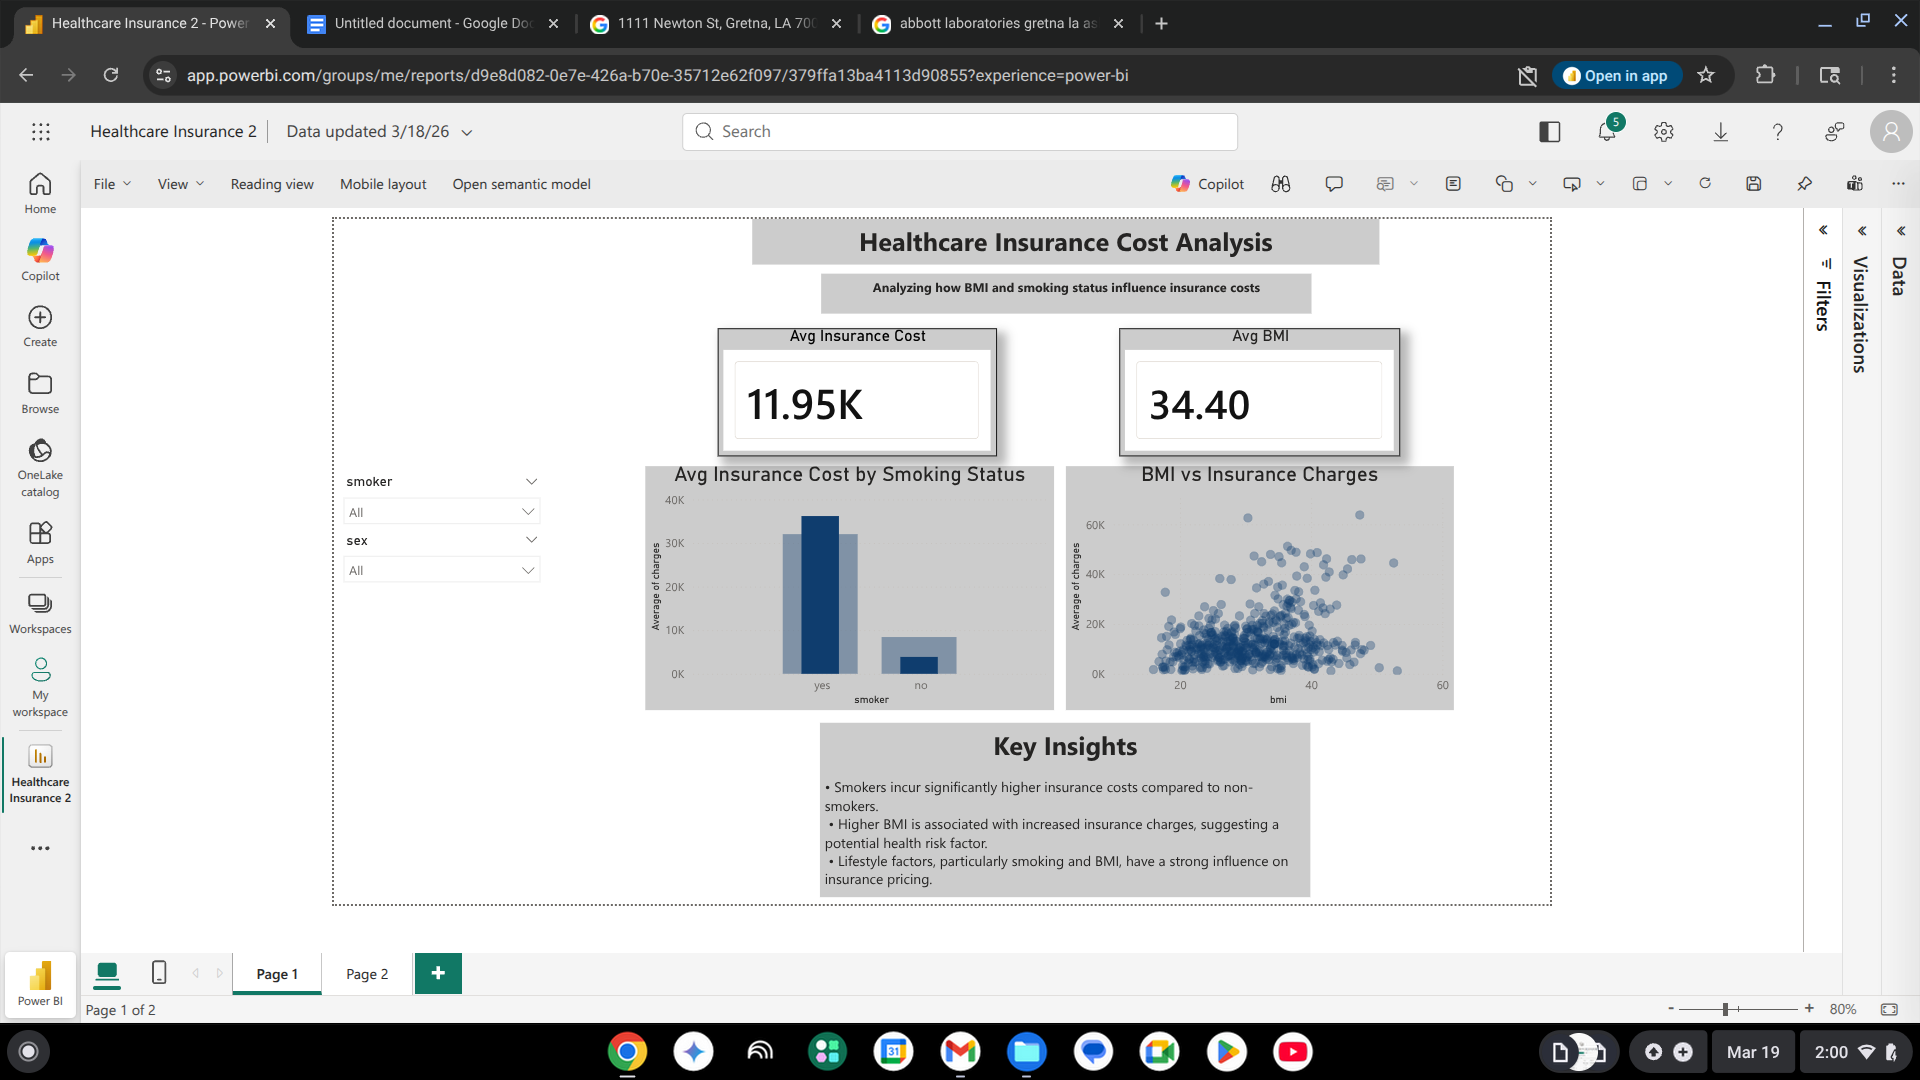

What the dashboard file says about the page in this screenshot:
{"tool":"powerbi","page":{"name":"Page 1","canvas":[1280,720],"ordinal":0},"visuals":[{"type":"clusteredColumnChart","title":"Avg Insurance Cost by Smoking Status","fields":{"Category":["insurance.smoker"],"Y":["Avg(insurance.charges)"]},"box":[326.9,259.9,430.4,256.4],"z":0},{"type":"scatterChart","title":"BMI vs Insurance Charges","fields":{"X":["insurance.bmi"],"Y":["Avg(insurance.charges)"]},"box":[770.2,259.9,408.1,256.4],"z":2000},{"type":"slicer","fields":{"Values":["insurance.smoker"]},"box":[0,265.8,227,70.6],"z":4000},{"type":"slicer","fields":{"Values":["insurance.sex"]},"box":[0,326.9,227,69.4],"z":5000},{"type":"textbox","box":[512.7,57.6,516.2,42.3],"z":6000},{"type":"textbox","box":[439.8,0,659.7,48.2],"z":7000},{"type":"cardVisual","title":"Avg Insurance Cost","fields":{"Data":["Avg(insurance.charges)"]},"box":[404,115.3,293.4,135.1],"z":7002},{"type":"cardVisual","title":"Avg BMI","fields":{"Data":["Avg(insurance.bmi)"]},"box":[826.7,115.3,295.8,135.1],"z":7003},{"type":"textbox","box":[511.5,530.4,516.2,183.4],"z":7006}]}

Visuals, with their boxes on the page's 1280x720 design canvas (x1, y1, x2, y2). These are canvas units, not pixel positions in the 1920x1080 screenshot, which may show the page scaled, cropped or inside an application window:
"Avg Insurance Cost by Smoking Status" clusteredColumnChart: region(327, 260, 757, 516)
"BMI vs Insurance Charges" scatterChart: region(770, 260, 1178, 516)
slicer - insurance.smoker: region(0, 266, 227, 336)
slicer - insurance.sex: region(0, 327, 227, 396)
textbox: region(513, 58, 1029, 100)
textbox: region(440, 0, 1100, 48)
"Avg Insurance Cost" cardVisual: region(404, 115, 697, 250)
"Avg BMI" cardVisual: region(827, 115, 1122, 250)
textbox: region(512, 530, 1028, 714)
